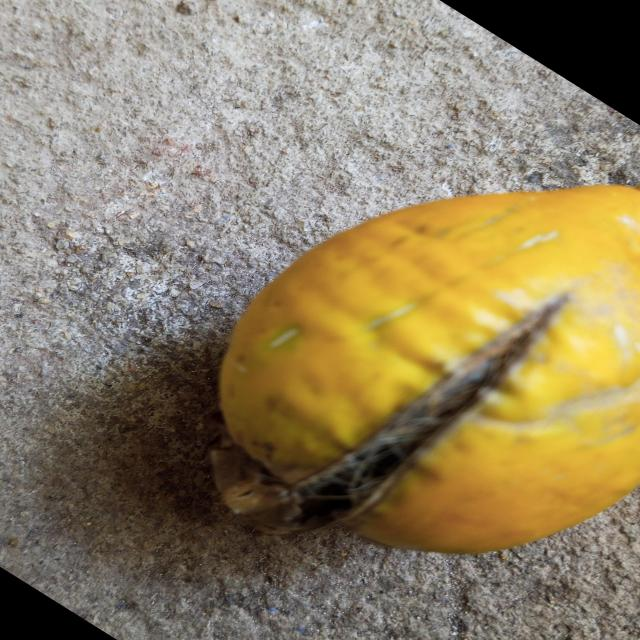damaged: (210, 186, 640, 553)
